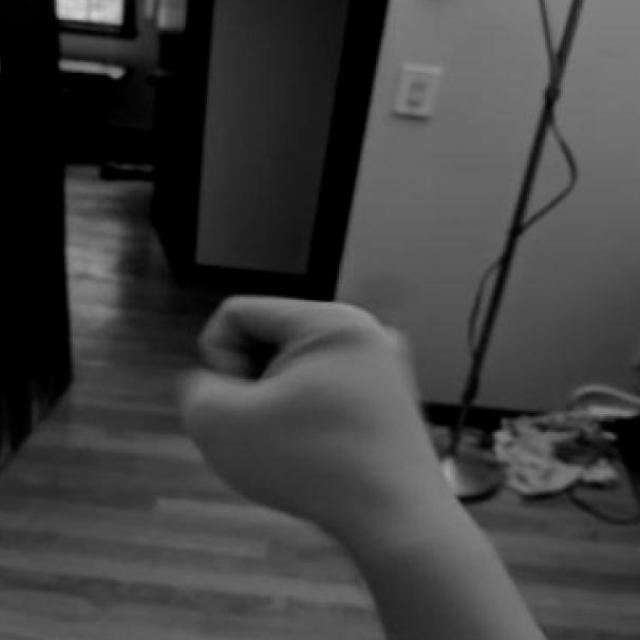J: (172, 285, 469, 571)
